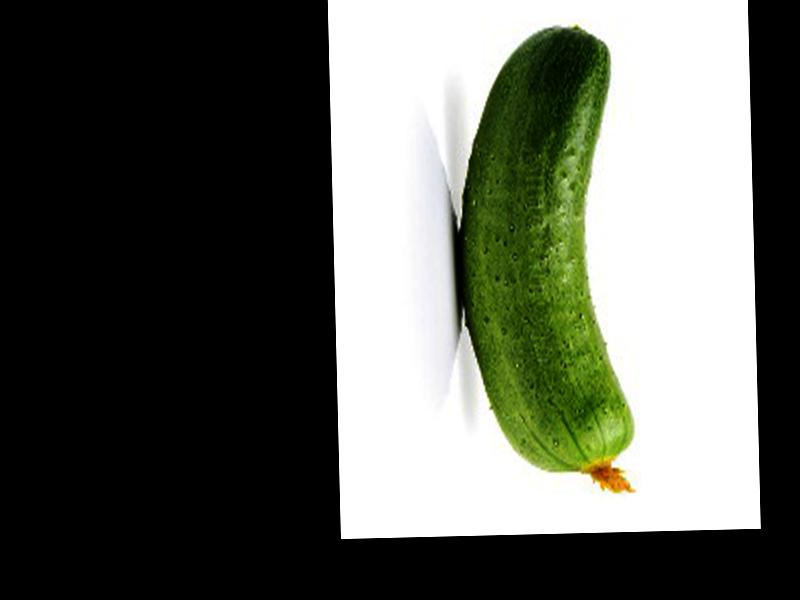Cucumber: (452, 23, 637, 501)
